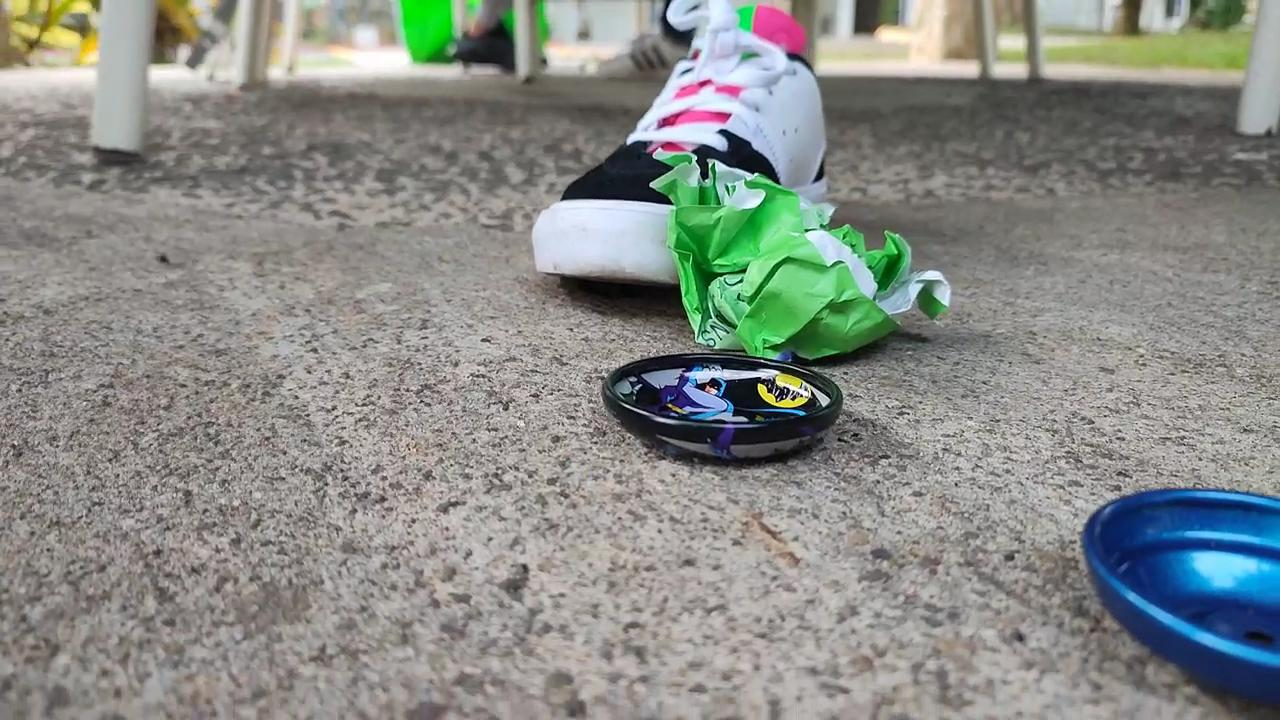Paper: (649, 139, 958, 372)
